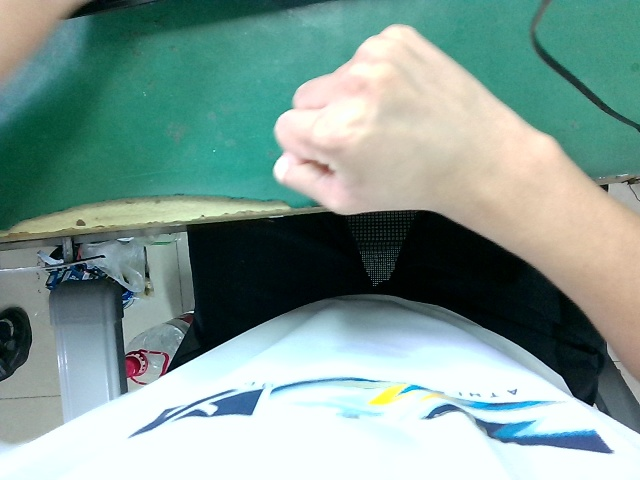stone: (271, 19, 560, 281)
